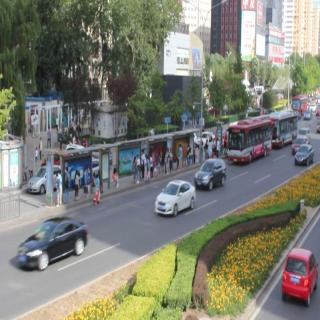BigCar: (229, 119, 274, 162), (270, 106, 298, 150)
Car: (18, 212, 89, 276), (281, 242, 316, 306), (148, 176, 198, 218), (195, 154, 229, 195), (25, 163, 66, 196), (44, 152, 80, 182), (291, 144, 314, 167), (297, 127, 312, 148)
